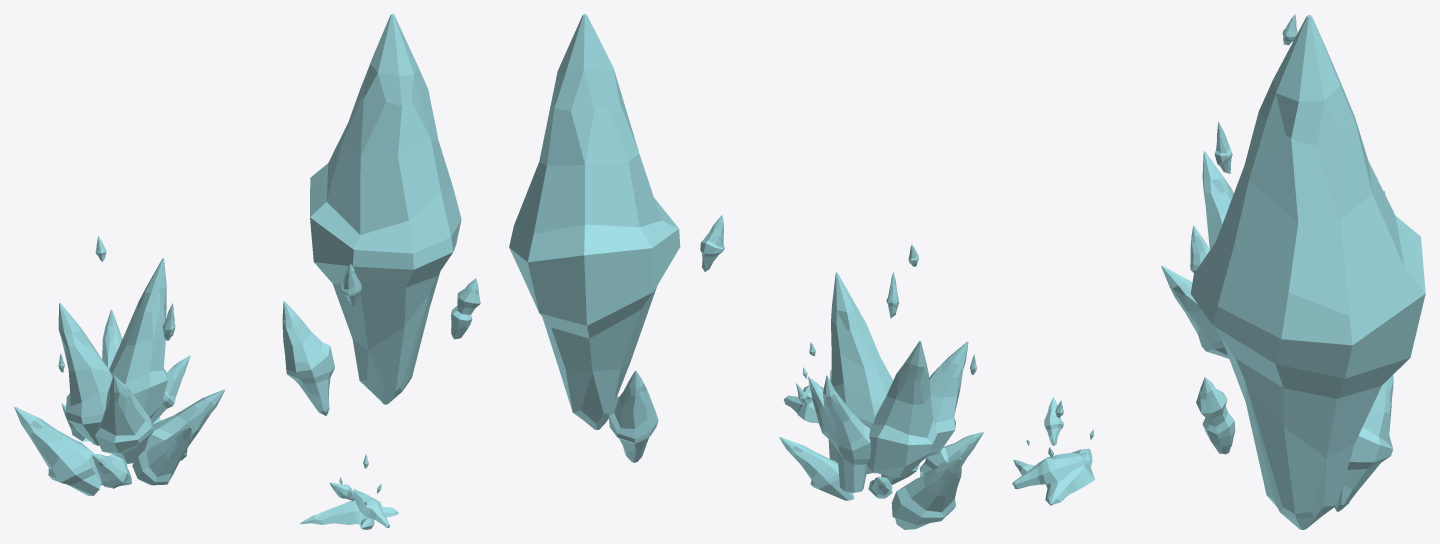
The model's file is crystal_05.glb.
3 views of the same model, side by side, from view 1: azimuth 30°, elevation 25°; view 2: azimuth 150°, elevation 25°; view 3: azimuth 270°, elevation 25° (orthographic). The views are drawn at different scales.
Visible parts, largest first — view 1: crystal_05; view 2: crystal_05; view 3: crystal_05.
Part boxes in pixels (x1,y1,x2,y2): crystal_05: [14, 14, 480, 529]; crystal_05: [509, 14, 983, 529]; crystal_05: [1012, 14, 1425, 529].
Bounding box in the file's own units: 1.23 × 1.13 × 0.7699.
